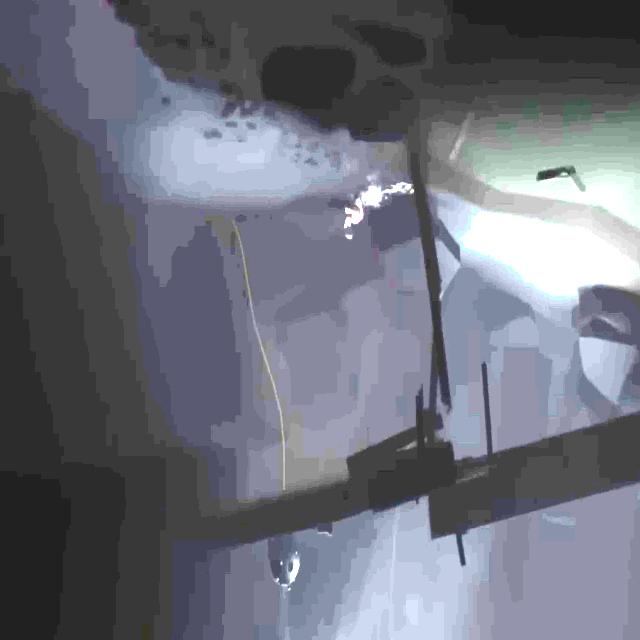boy: (344, 188, 365, 240)
